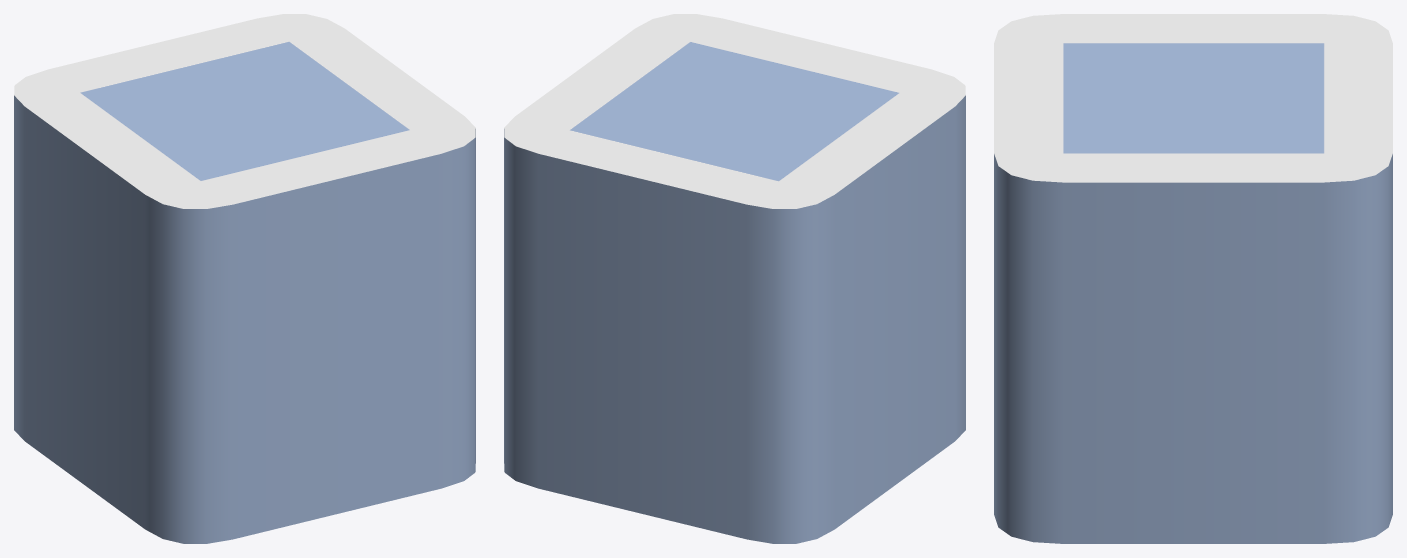
3 renders of one model, left to right at view 1: azimuth 30°, elevation 25°; view 2: azimuth 150°, elevation 25°; view 3: azimuth 270°, elevation 25°, orthographic. The views are drawn at different scales.
Parts seen in each view (by area): view 1: Box002.002; view 2: Box002.002; view 3: Box002.002.
Boxes of the visible parts, bbox=[...] form: Box002.002: bbox=[14, 14, 475, 543]; Box002.002: bbox=[504, 14, 965, 543]; Box002.002: bbox=[994, 14, 1392, 543].
Bounding box in the file's own units: 127 × 127 × 127.
